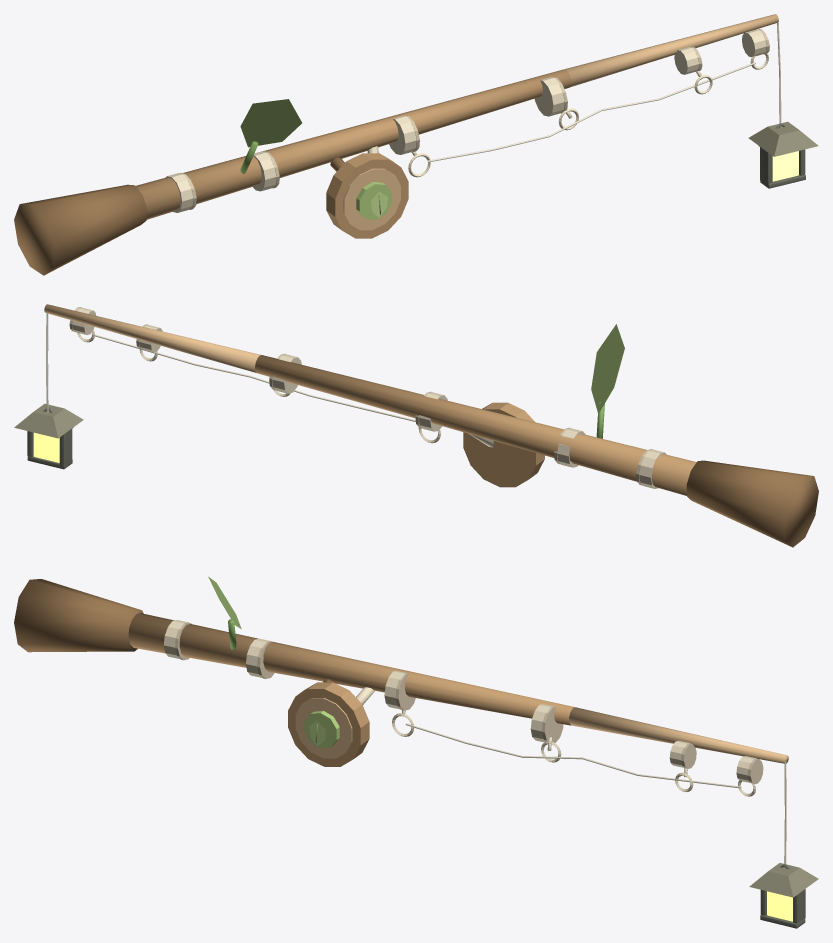
The picture shows the model from 3 angles, top to bottom: view 1: azimuth 30°, elevation 25°; view 2: azimuth 150°, elevation 25°; view 3: azimuth 330°, elevation 25°; orthographic projection.
Parts seen in each view (by area): view 1: villager_rod_warm_branch_body, villager_rod_faceted_log_butt, villager_rod_slim_twig_tip, villager_rod_reel_outer_wood_shell, villager_rod_integrated_left_leaf, villager_rod_reel_cut_wood_ring, villager_rod_lantern_roof, villager_rod_clean_sagging_line, villager_rod_tidy_rope_wrap_4, villager_rod_reel_leaf_green_button, villager_rod_tidy_rope_wrap_3, villager_rod_lantern_glowing_window (+4 smaller); view 2: villager_rod_warm_branch_body, villager_rod_faceted_log_butt, villager_rod_reel_outer_wood_shell, villager_rod_slim_twig_tip, villager_rod_integrated_left_leaf, villager_rod_lantern_roof, villager_rod_clean_sagging_line, villager_rod_lantern_glowing_window, villager_rod_tidy_rope_wrap_1; view 3: villager_rod_warm_branch_body, villager_rod_faceted_log_butt, villager_rod_slim_twig_tip, villager_rod_reel_outer_wood_shell, villager_rod_reel_cut_wood_ring, villager_rod_lantern_roof, villager_rod_clean_sagging_line, villager_rod_reel_leaf_green_button, villager_rod_lantern_glowing_window.
Part boxes in pixels (x1,y1,x2,y2): villager_rod_warm_branch_body: (135,69,571,219); villager_rod_faceted_log_butt: (14,184,146,275); villager_rod_slim_twig_tip: (564,14,778,87); villager_rod_reel_outer_wood_shell: (326,153,408,238); villager_rod_integrated_left_leaf: (240,99,301,147); villager_rod_reel_cut_wood_ring: (343,168,400,230); villager_rod_lantern_roof: (748,121,818,156); villager_rod_clean_sagging_line: (427,62,755,162); villager_rod_tidy_rope_wrap_4: (534,77,564,116); villager_rod_reel_leaf_green_button: (356,182,391,219); villager_rod_tidy_rope_wrap_3: (389,115,416,154); villager_rod_lantern_glowing_window: (772,151,798,181); villager_rod_warm_branch_body: (255,355,696,495); villager_rod_faceted_log_butt: (686,460,818,547); villager_rod_reel_outer_wood_shell: (463,402,544,487); villager_rod_slim_twig_tip: (44,304,260,372); villager_rod_integrated_left_leaf: (591,324,624,413); villager_rod_lantern_roof: (14,403,83,438); villager_rod_clean_sagging_line: (91,334,415,421); villager_rod_lantern_glowing_window: (33,432,59,462); villager_rod_tidy_rope_wrap_1: (639,449,666,488); villager_rod_warm_branch_body: (128,613,575,725); villager_rod_faceted_log_butt: (14,579,143,652); villager_rod_slim_twig_tip: (569,707,788,763); villager_rod_reel_outer_wood_shell: (288,682,369,766); villager_rod_reel_cut_wood_ring: (295,698,352,758); villager_rod_lantern_roof: (749,863,818,897); villager_rod_clean_sagging_line: (405,723,741,788); villager_rod_reel_leaf_green_button: (304,711,339,748); villager_rod_lantern_glowing_window: (767,891,792,921).
Size of the model in its own units: 3.01 by 0.8885 by 0.3511.
